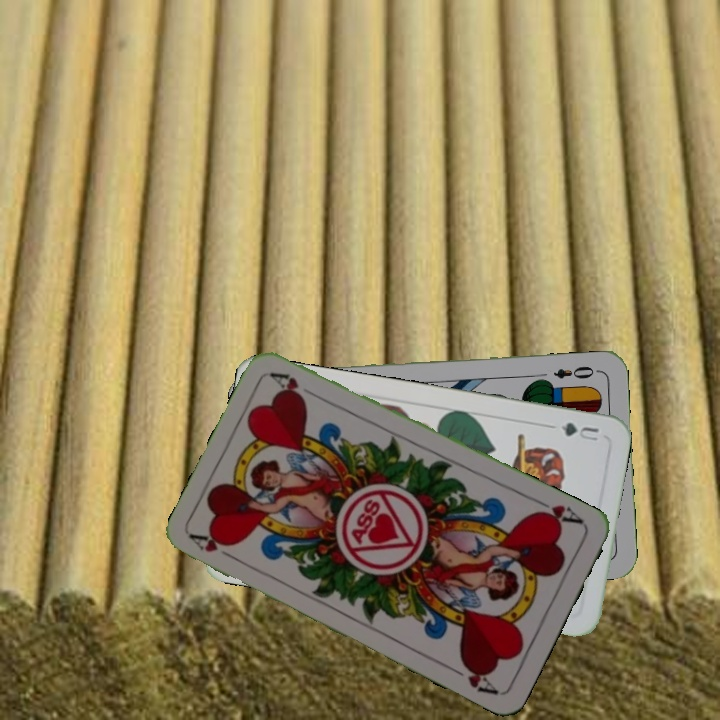EO: (550, 362, 602, 381)
GU: (557, 418, 601, 444)
HA: (530, 494, 586, 529), (187, 530, 243, 565)
